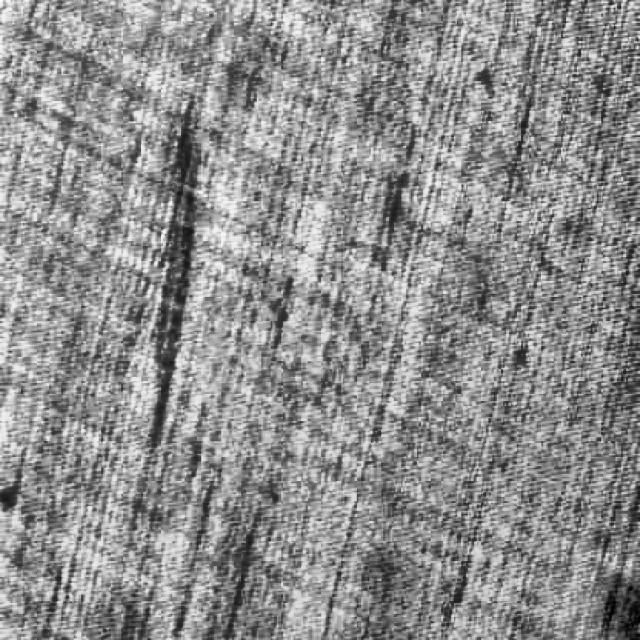oil_spot: (122, 94, 231, 471)
